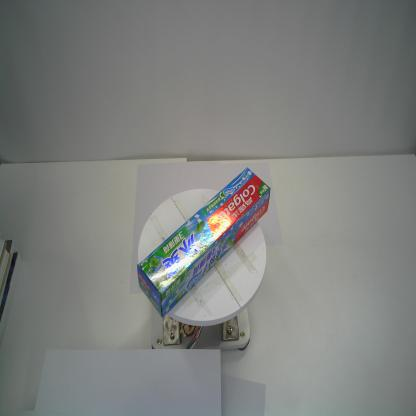Personal Hygiene: (136, 166, 272, 319)
